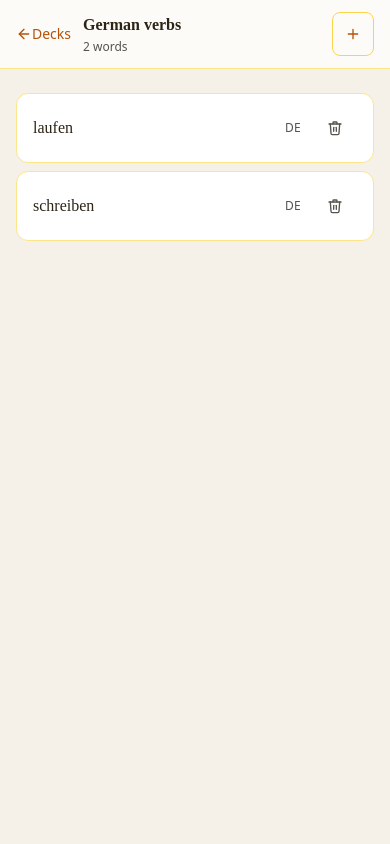
Scenario: removing a second word while first toast shows commits the first removal
This screenshot has width=390, height=844.
Expected: the text "laufen" is shown, top-left (33, 119), bottom-right (73, 136)
Remove WORD_A → toast appears
Click the button named "Remove laufen" at (335, 128), box top-left (313, 106), bottom-right (357, 150)
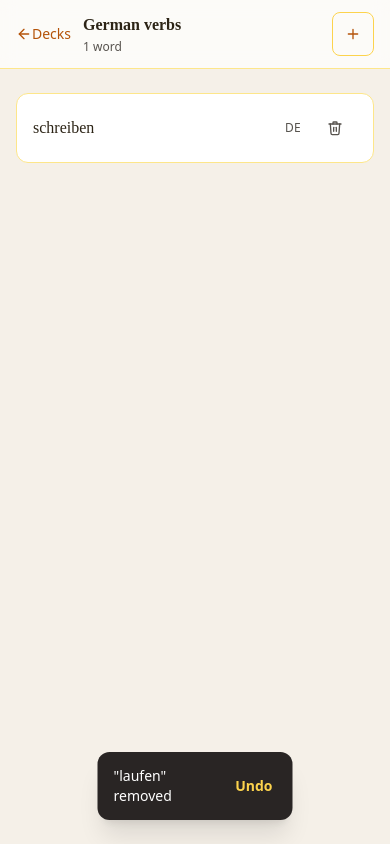
Now the text "\"laufen\" removed" is shown, box top-left (114, 766), bottom-right (172, 805)
Remove WORD_B while first toast is still showing
Click the button named "Remove schreiben" at (335, 128), box top-left (313, 106), bottom-right (357, 150)
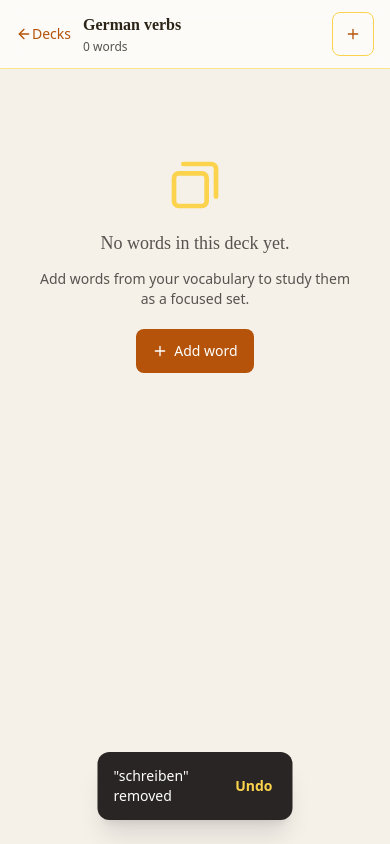
Now the text "\"schreiben\" removed" is shown, box top-left (114, 766), bottom-right (189, 805)
